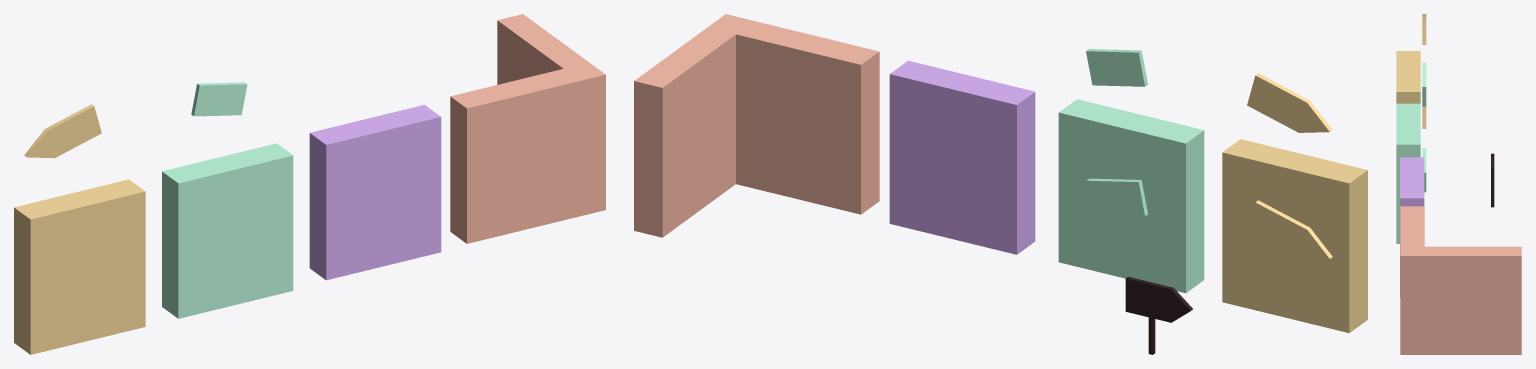
File: pintacerda.fbx
3 views of the same model, side by side, from view 1: azimuth 30°, elevation 25°; view 2: azimuth 150°, elevation 25°; view 3: azimuth 270°, elevation 25° (orthographic). The views are drawn at different scales.
Parts seen in each view (by area): view 1: esquina, pared_ventanas3, cartel6, cartel7, cartel5, cartel4; view 2: esquina, pared_ventanas3, cartel6, cartel7, cartel5, cartel3, cartel4; view 3: esquina, cartel6, cartel7, pared_ventanas3, cartel4, cartel3, cartel5.
Boxes of the visible parts, bbox=[...] form: esquina: bbox=[450, 14, 605, 243]; pared_ventanas3: bbox=[309, 105, 441, 280]; cartel6: bbox=[162, 143, 293, 318]; cartel7: bbox=[14, 179, 145, 354]; cartel5: bbox=[24, 104, 101, 158]; cartel4: bbox=[191, 82, 247, 116]; esquina: bbox=[634, 14, 879, 237]; pared_ventanas3: bbox=[889, 60, 1035, 254]; cartel6: bbox=[1058, 99, 1204, 293]; cartel7: bbox=[1222, 139, 1367, 333]; cartel5: bbox=[1247, 73, 1332, 132]; cartel3: bbox=[1125, 276, 1192, 354]; cartel4: bbox=[1086, 49, 1147, 86]; esquina: bbox=[1400, 206, 1521, 354]; cartel6: bbox=[1396, 103, 1426, 243]; cartel7: bbox=[1396, 51, 1426, 128]; pared_ventanas3: bbox=[1400, 157, 1424, 297]; cartel4: bbox=[1422, 62, 1426, 106]; cartel3: bbox=[1491, 153, 1494, 207]; cartel5: bbox=[1422, 14, 1426, 44].
Size of the model in its own units: 20.1 by 7.65 by 5.15.
